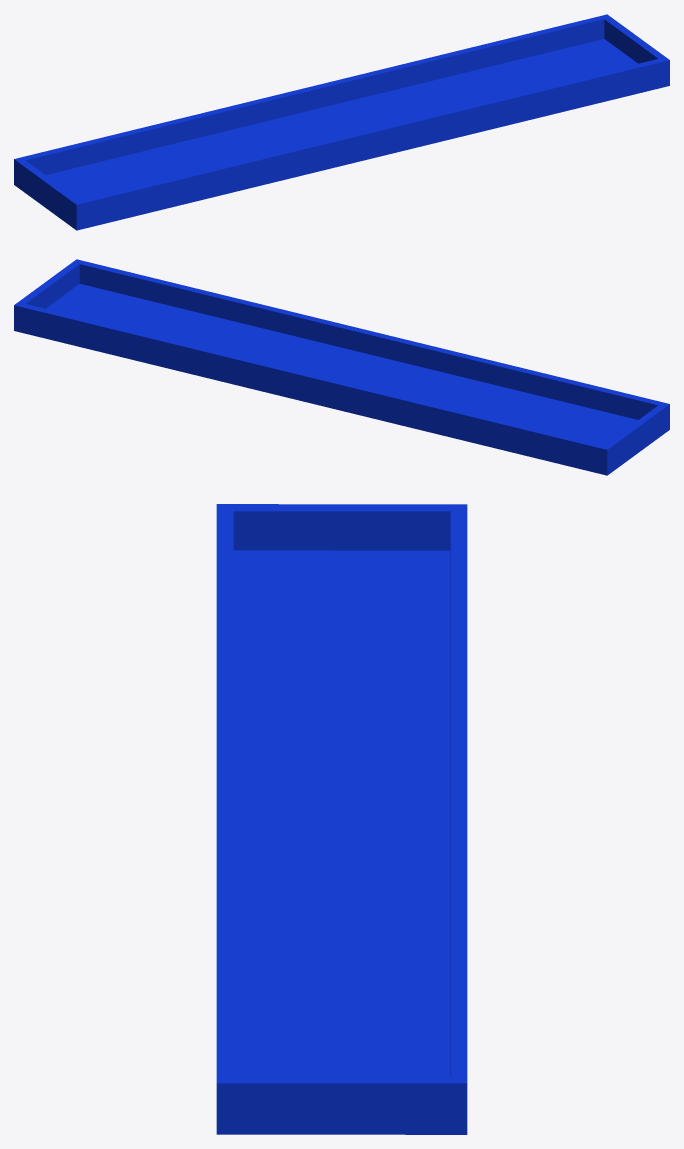
The model's file is cybernetics_pool.dae.
3 renders of one model, top to bottom at view 1: azimuth 30°, elevation 25°; view 2: azimuth 150°, elevation 25°; view 3: azimuth 270°, elevation 25°, orthographic. The views are drawn at different scales.
Parts seen in each view (by area): view 1: Cybernetic pool; view 2: Cybernetic pool; view 3: Cybernetic pool.
Boxes of the visible parts, x1=… form: Cybernetic pool: x1=14, y1=14, x2=669, y2=230; Cybernetic pool: x1=14, y1=259, x2=669, y2=475; Cybernetic pool: x1=216, y1=504, x2=467, y2=1134.
Bounding box in the file's own units: 41 × 7.5 × 1.71.
